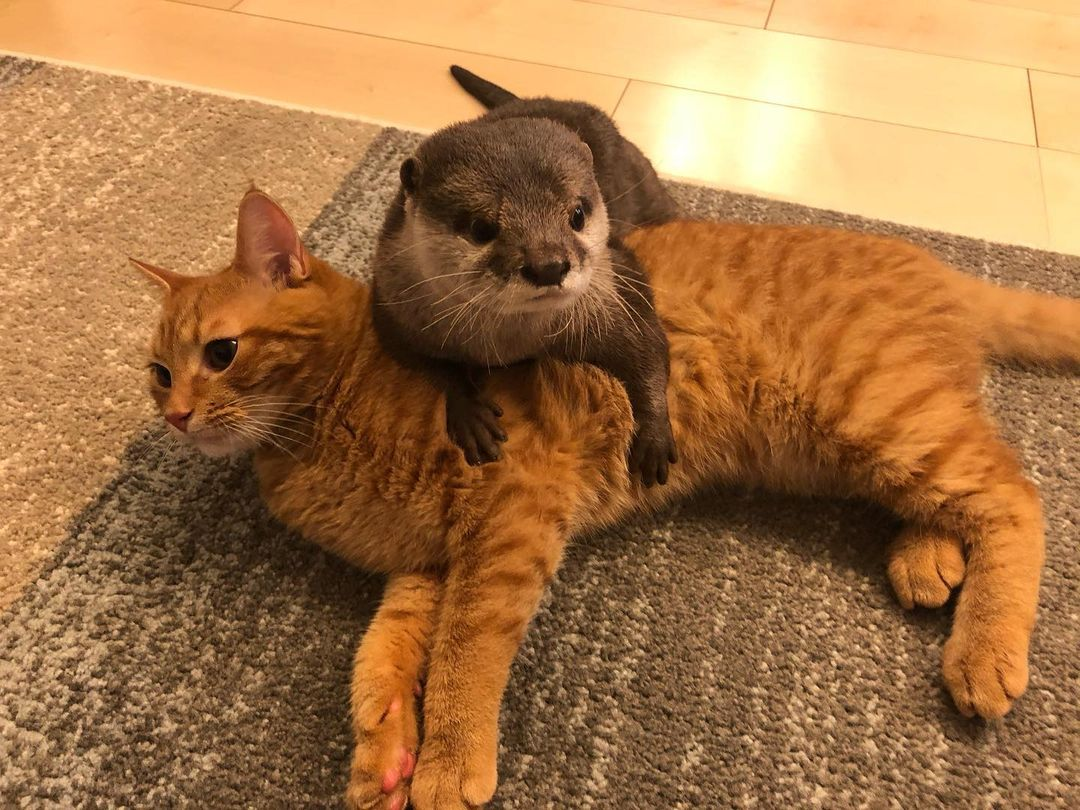cat: (123, 186, 1046, 810)
otter: (377, 97, 677, 486)
